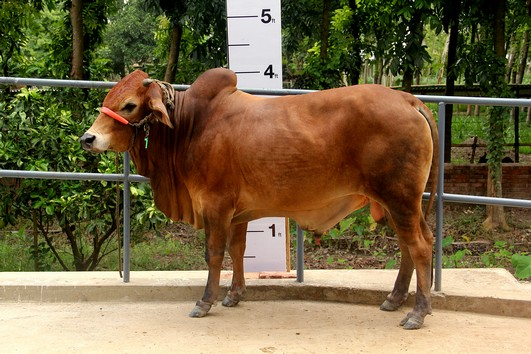cow: (76, 55, 448, 333)
